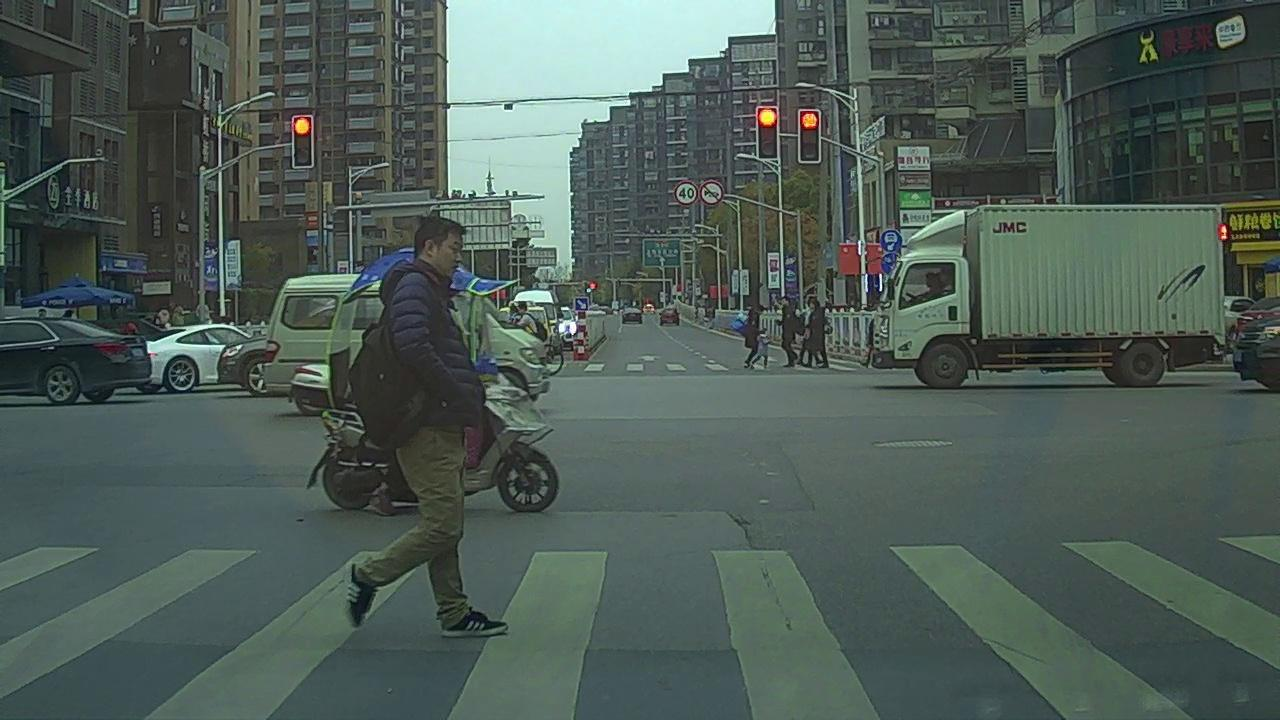traffic_light: (291, 117, 313, 167), (759, 106, 777, 160), (800, 109, 818, 161)
